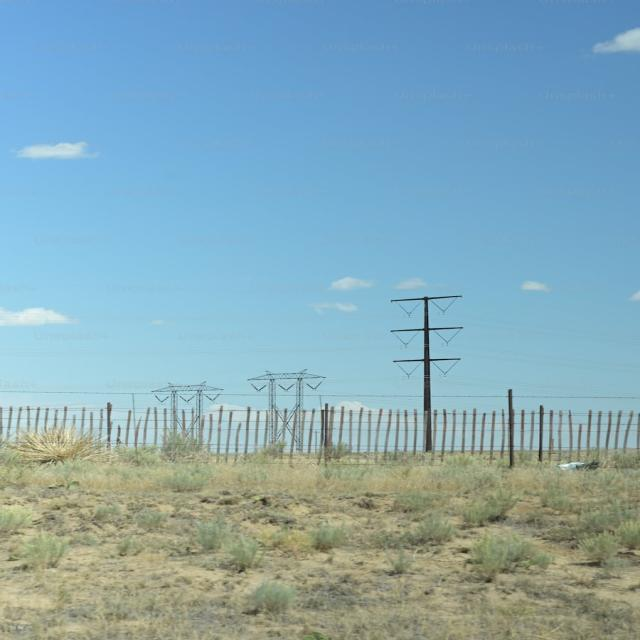transmission tower: (374, 278, 496, 414), (235, 367, 333, 408), (138, 369, 226, 412)
